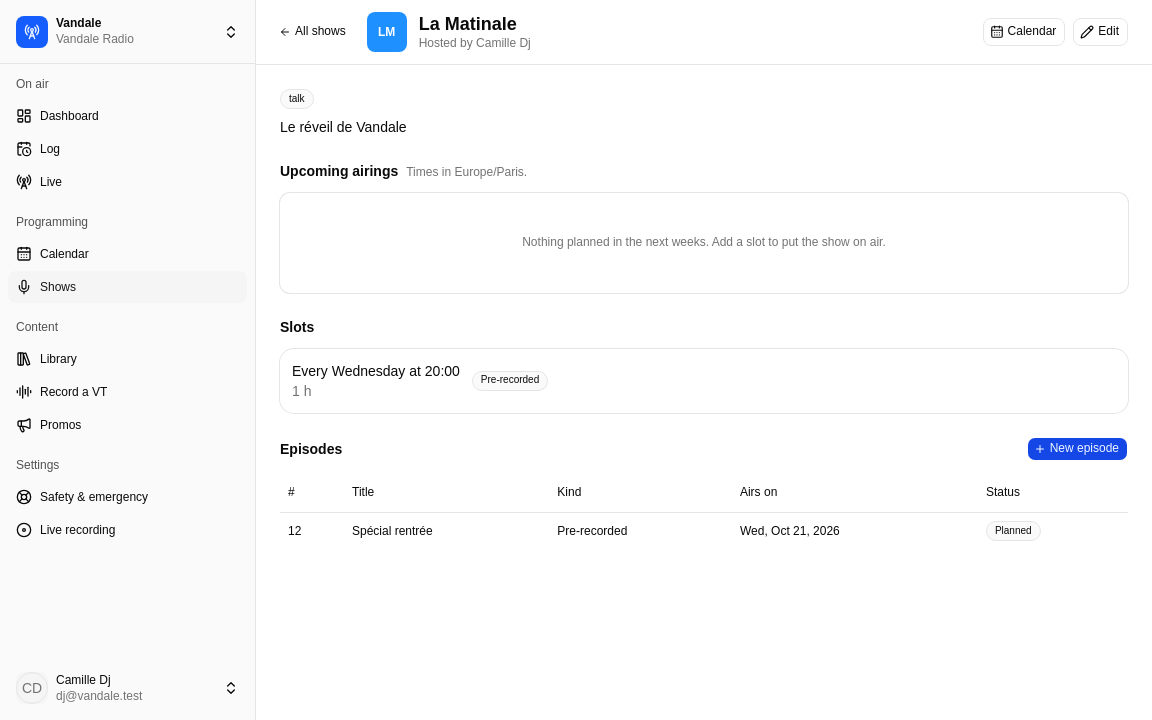
Test: show page › renumbers an episode, and explains a taken number
Click the button named "Episode #12": (295, 531) [288,523,301,539]
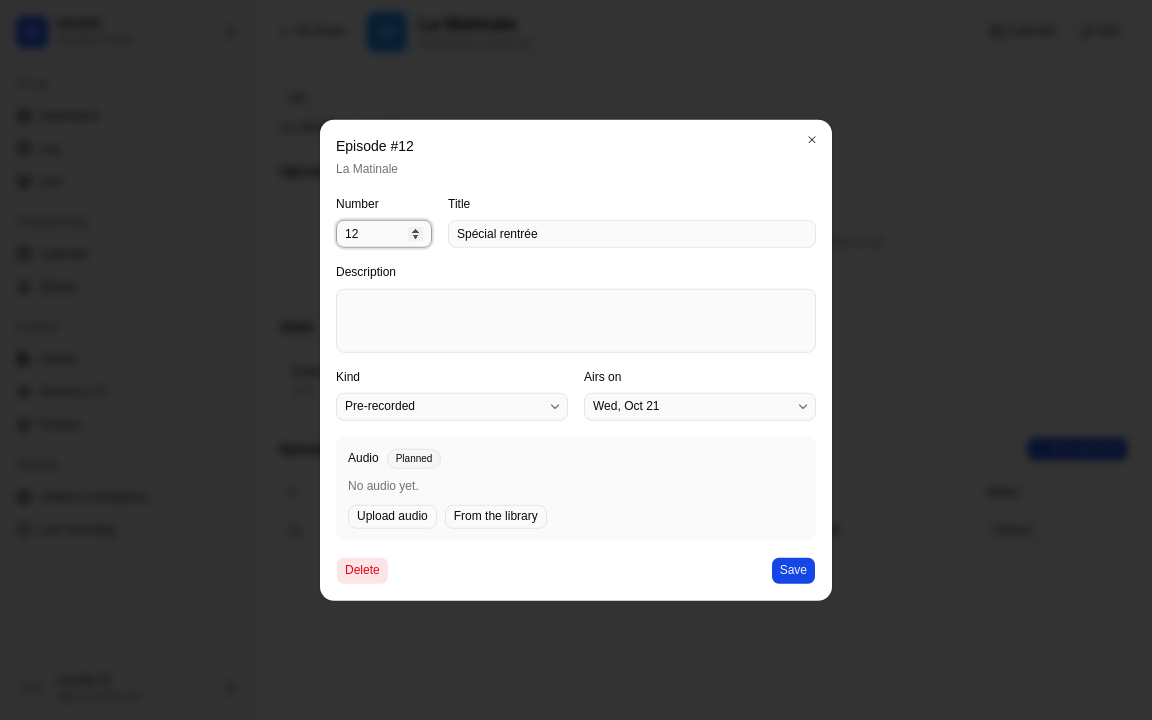
Replace the text in the number field labelled "Number" with "11": (384, 234) [336,220,432,248]
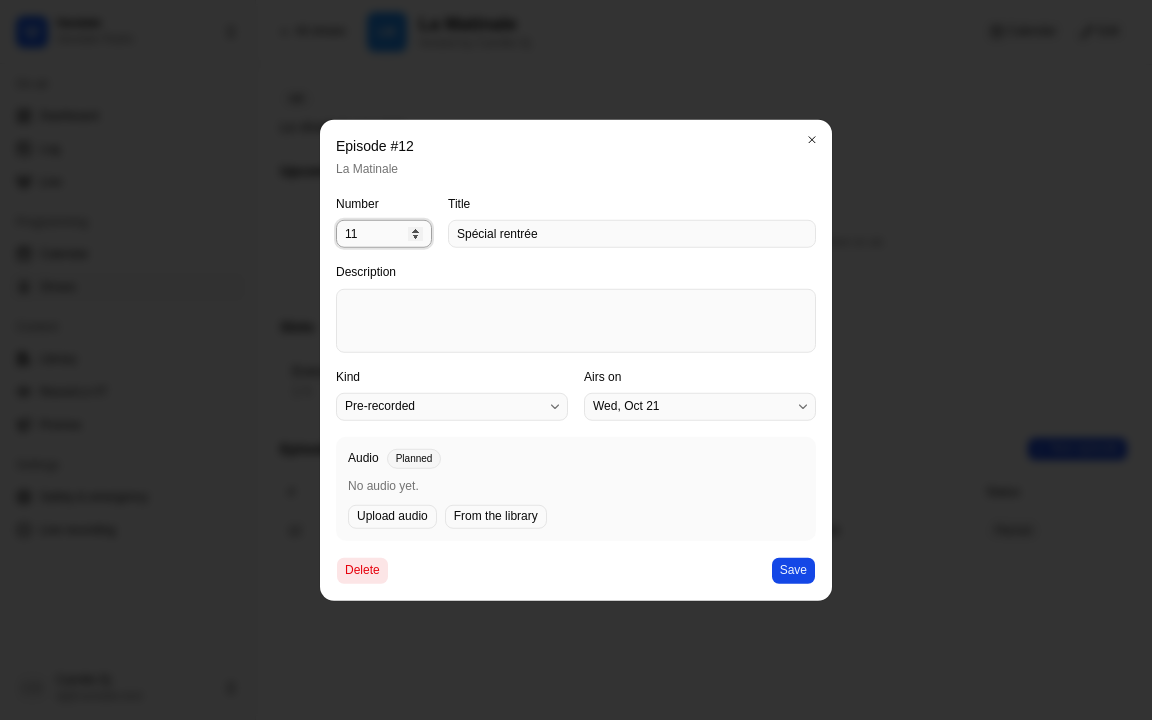
Click the button "Save": (793, 570) [771,556,816,584]
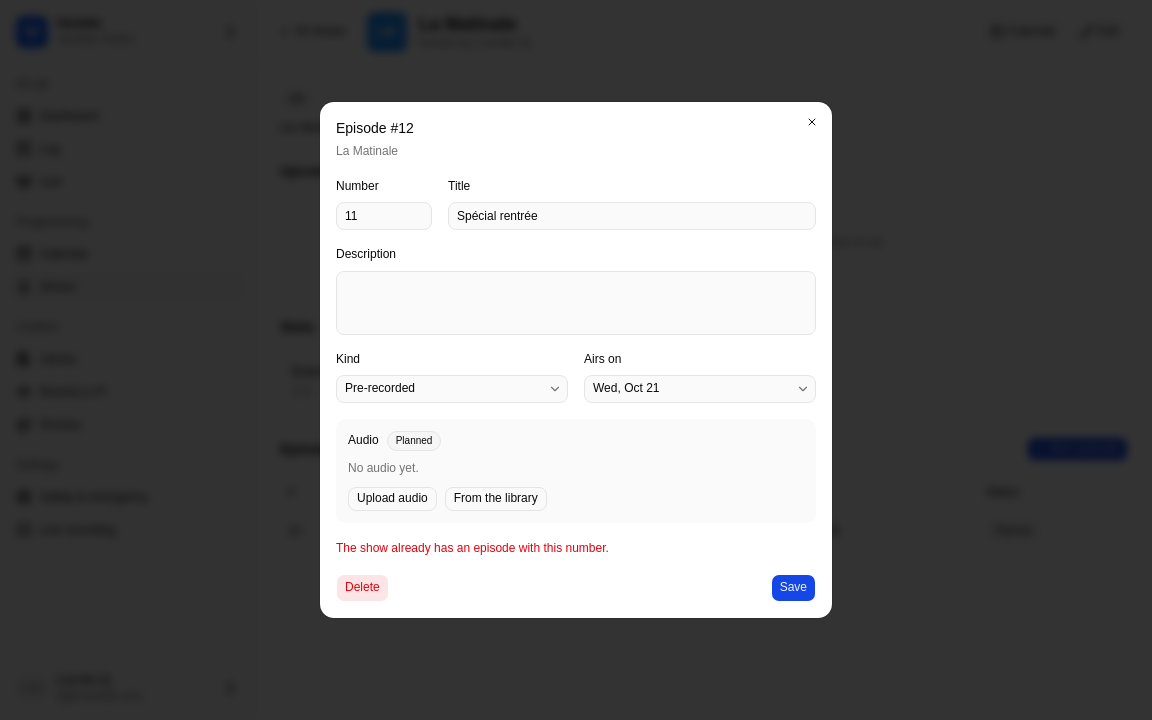
Check: the text "The show already has an episode with this number." is shown, box [336,540,609,554]
Replace the text in the number field labelled "Number" with "20": (384, 216) [336,202,432,230]
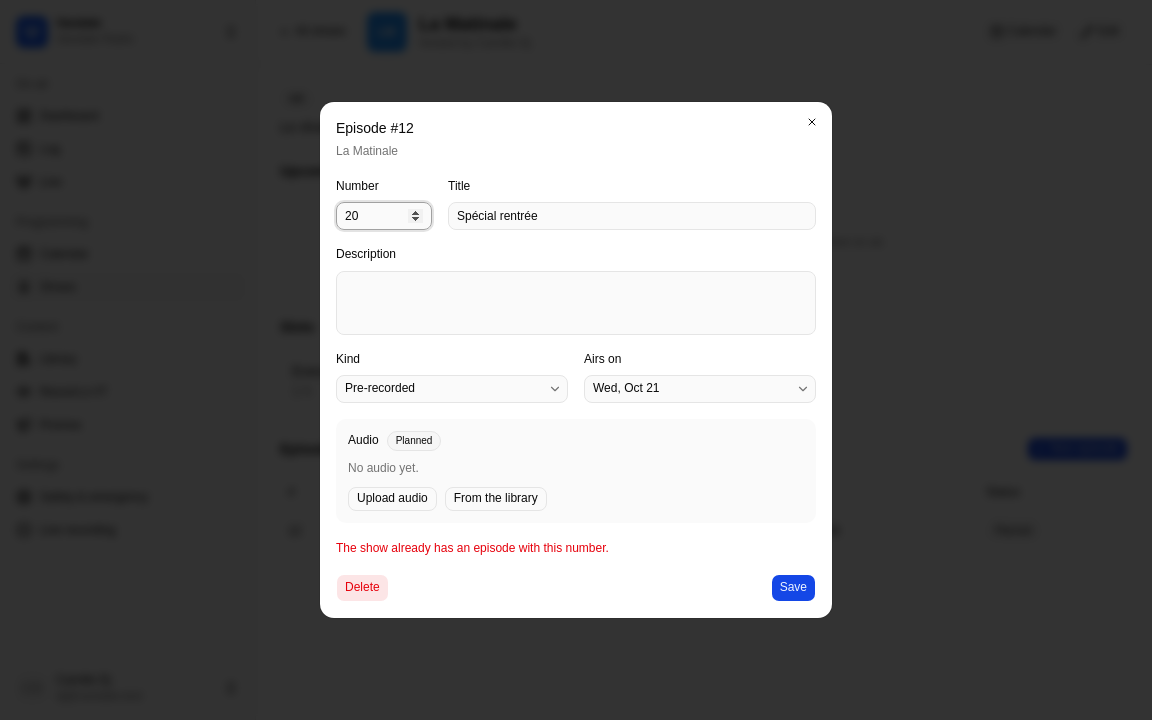
Click the button "Save": (793, 588) [771,574,816,602]
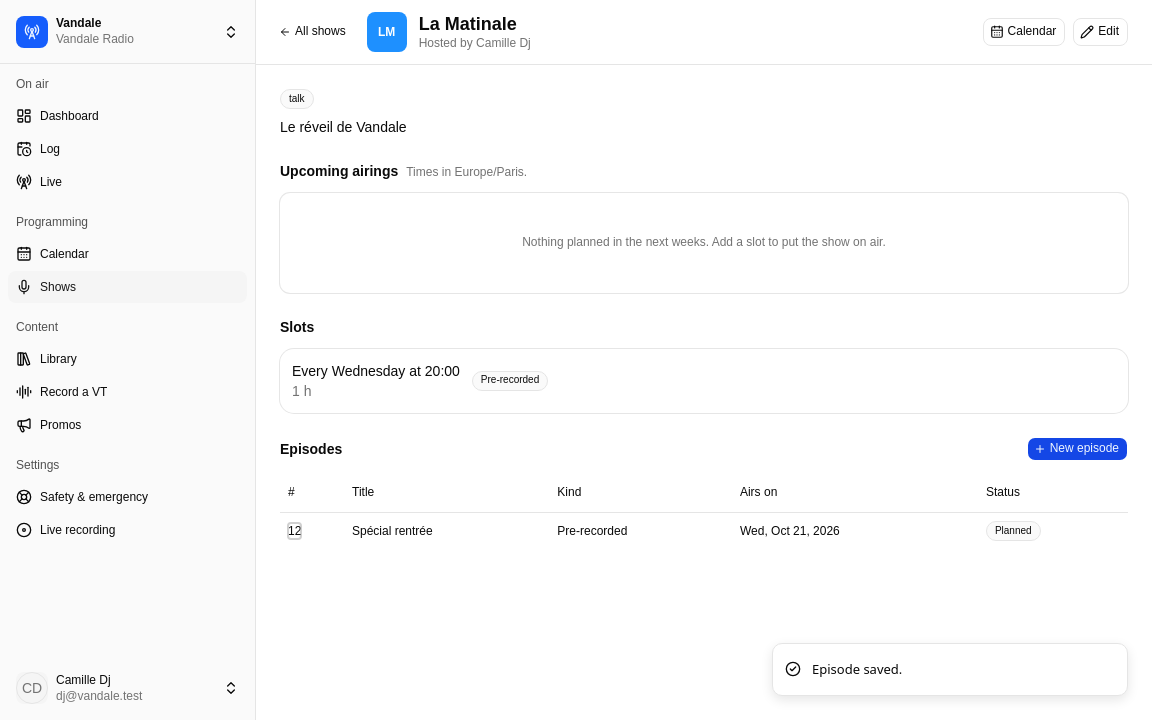
Check: the text "Episode saved." is shown, box [812,660,902,679]
